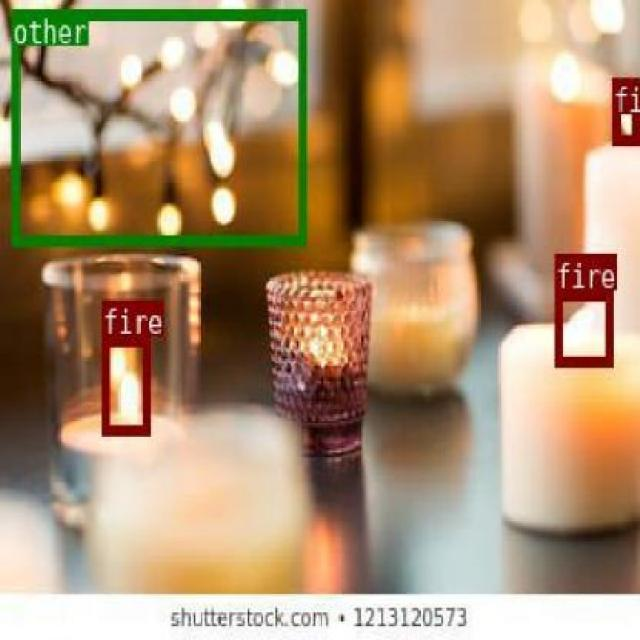Fire: (514, 0, 613, 101), (112, 353, 141, 422), (623, 110, 635, 138)
